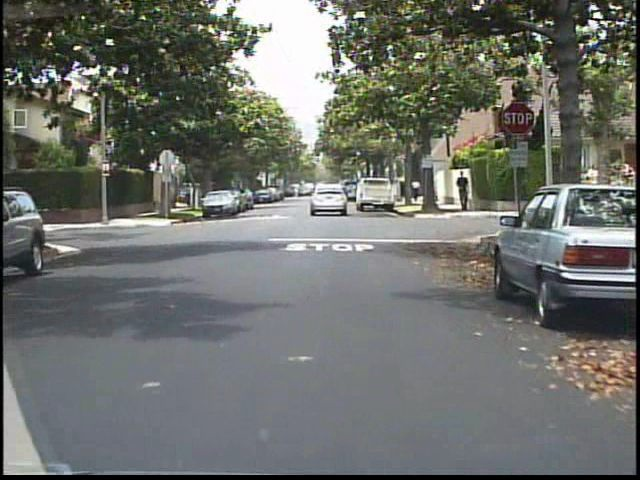person: (454, 168, 475, 216), (181, 178, 197, 208), (412, 175, 423, 204)
